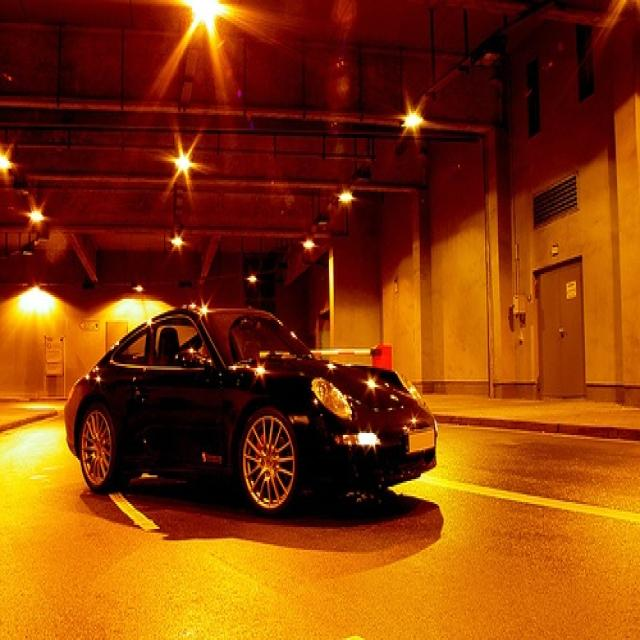Car: (65, 303, 439, 528)
